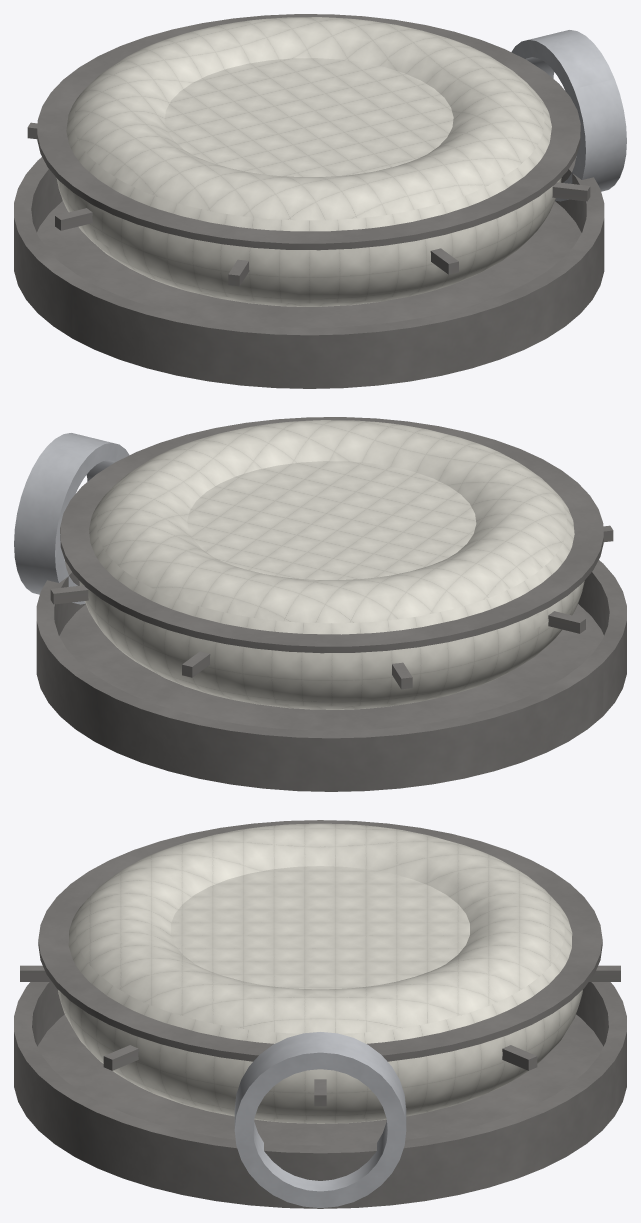
The model's file is rover11_inflatable_dome.glb.
The picture shows the model from 3 angles, top to bottom: view 1: azimuth 30°, elevation 25°; view 2: azimuth 150°, elevation 25°; view 3: azimuth 270°, elevation 25°; orthographic projection. The views are drawn at different scales.
Parts seen in each view (by area): view 1: packed_fabric, floor_core, restraint_bands, tunnel_collar; view 2: packed_fabric, floor_core, restraint_bands, tunnel_collar; view 3: packed_fabric, floor_core, restraint_bands, tunnel_collar.
Part boxes in pixels (bbox=[...]): packed_fabric: bbox=[56, 17, 561, 306]; floor_core: bbox=[14, 157, 604, 388]; restraint_bands: bbox=[27, 14, 590, 286]; tunnel_collar: bbox=[511, 30, 626, 201]; packed_fabric: bbox=[79, 420, 584, 709]; floor_core: bbox=[36, 560, 626, 791]; restraint_bands: bbox=[50, 417, 613, 689]; tunnel_collar: bbox=[14, 433, 129, 604]; packed_fabric: bbox=[58, 823, 582, 1123]; floor_core: bbox=[14, 982, 626, 1208]; restraint_bands: bbox=[20, 820, 620, 1106]; tunnel_collar: bbox=[234, 1032, 406, 1207].
Size of the model in its own units: 5.2 by 1.5 by 5.
3 materials, 3 textured.
